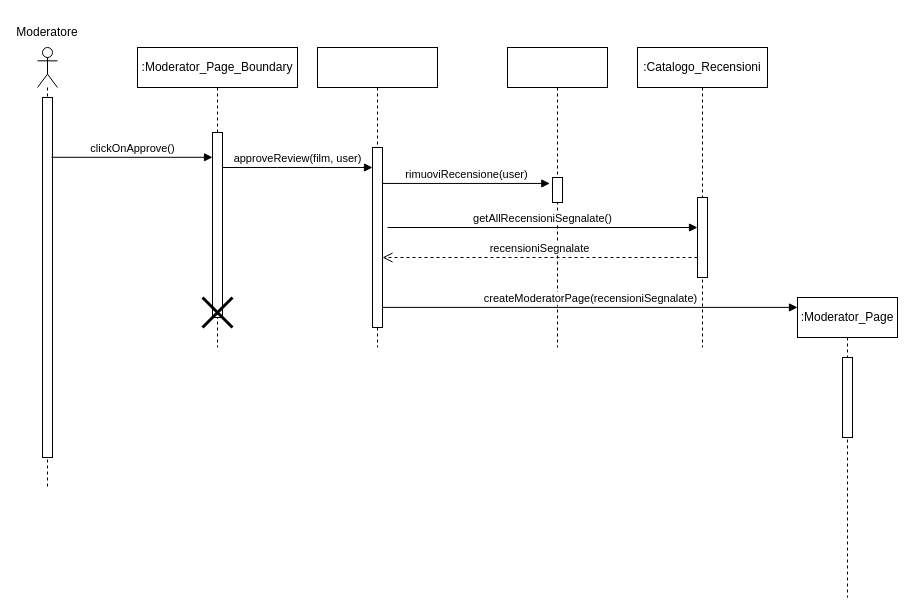
Some shapes in this 915 by 615 pixel diagram are drawn without their labels. The shapes that lost their labels are listed below. From the top down, each one's box as (x1, y1, x2, y2) in pixels, then its label:
(316, 46, 438, 348): :Moderator_Control
(506, 46, 608, 348): film:Film
